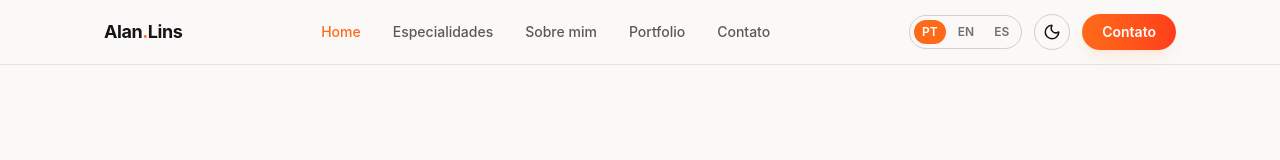
Header › switches nav language when a language button is clicked
Click the button "EN" at coordinates (966, 32), box [950,20,982,44]
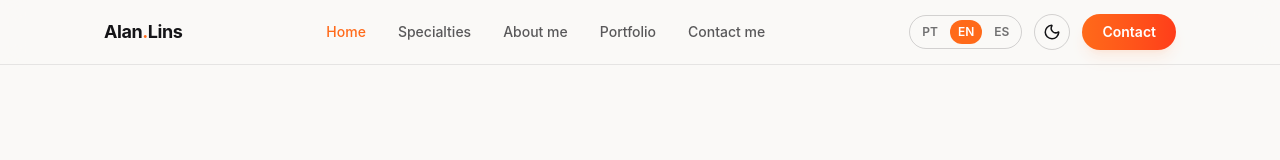
Check: the navigation bar named "Primary" shows "Specialties", box [398,22,471,42]
Check: the navigation bar named "Primary" shows "About me", box [503,22,568,42]
Check: the navigation bar named "Primary" shows "Contact me", box [688,22,765,42]
